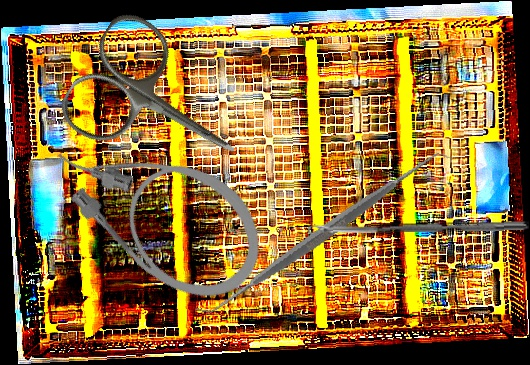Cannula: (34, 93, 286, 324)
Iris Scissors: (51, 3, 269, 209)
Spatula Surgical: (194, 102, 451, 365)
Surgical Spoon: (307, 220, 530, 234)
